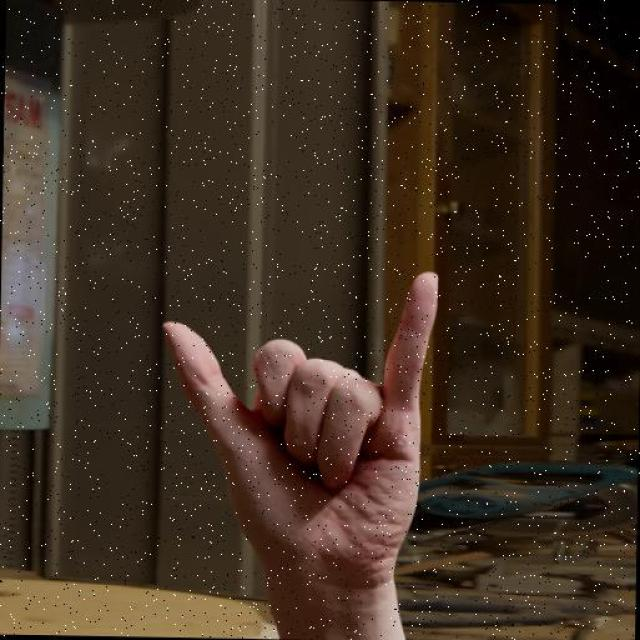Y: (155, 265, 440, 579)
